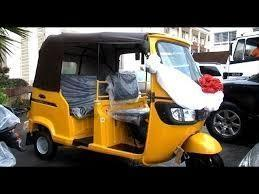keke: (29, 30, 233, 190)
